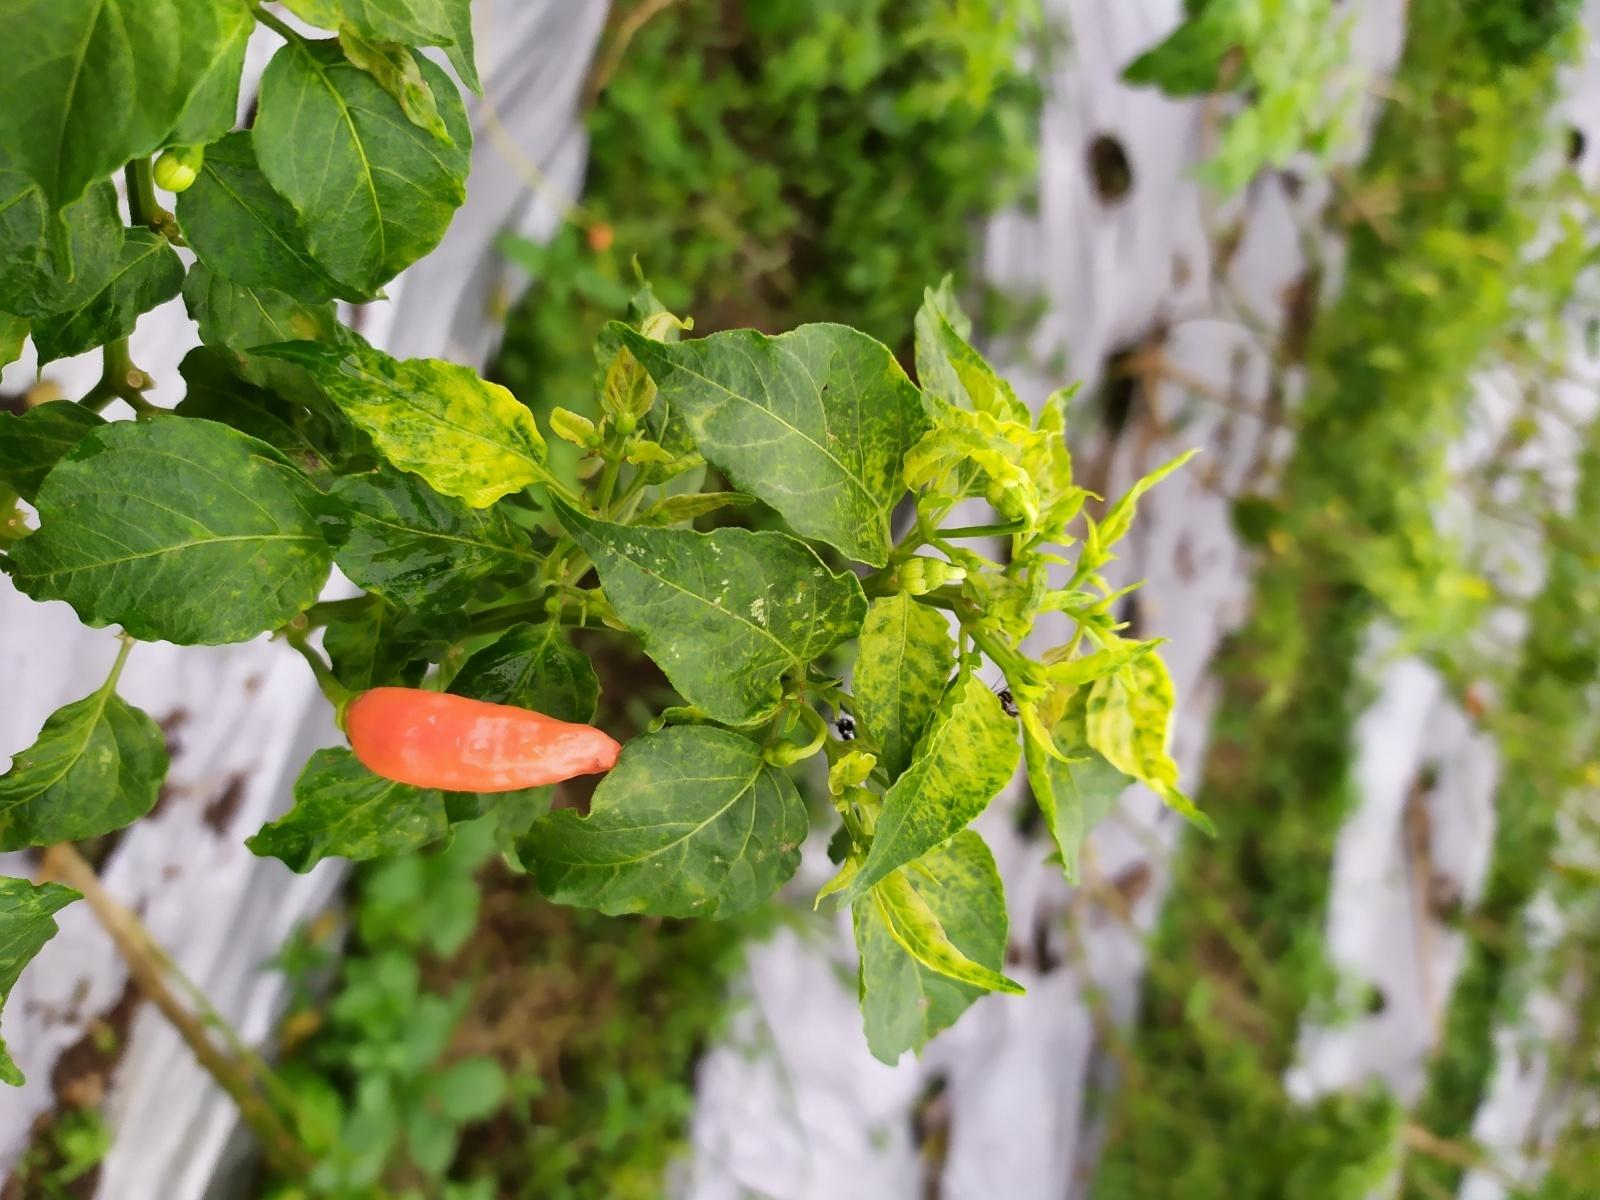cabai_normal: (345, 687, 622, 792)
